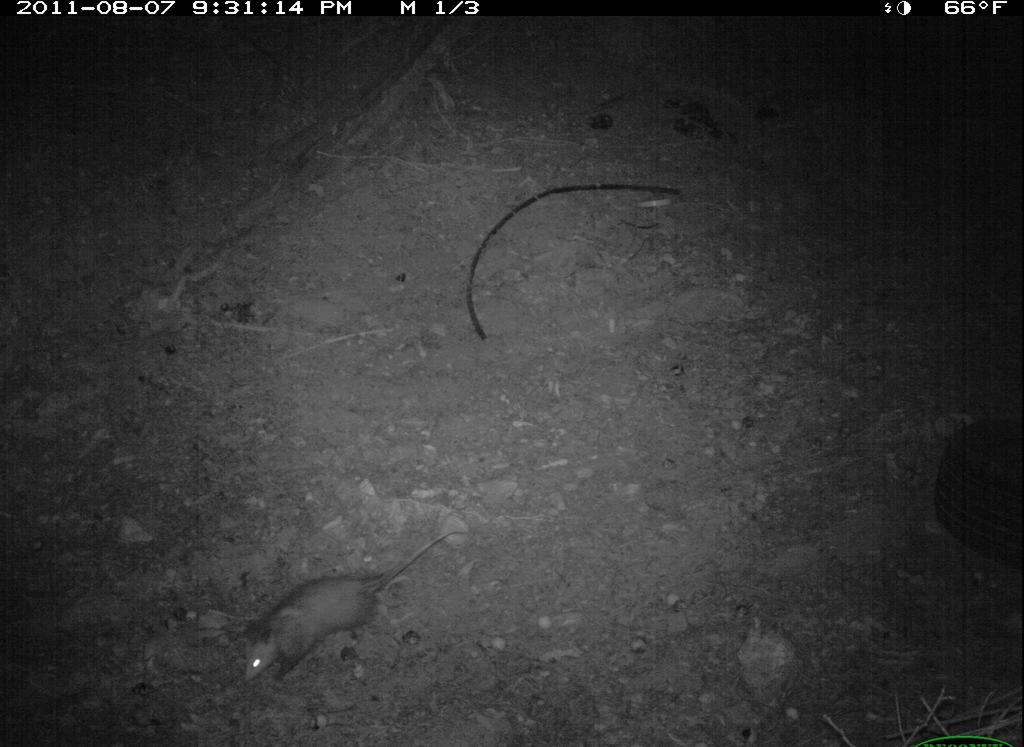opossum: (230, 514, 495, 696)
